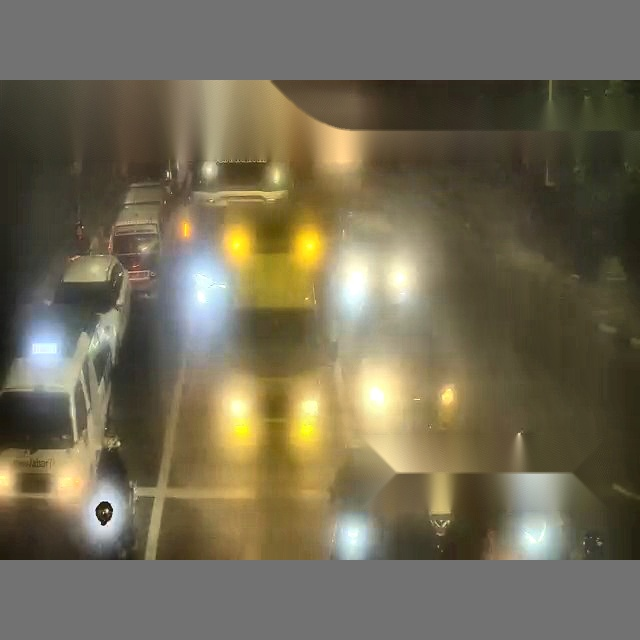Motor: (176, 216, 192, 241)
